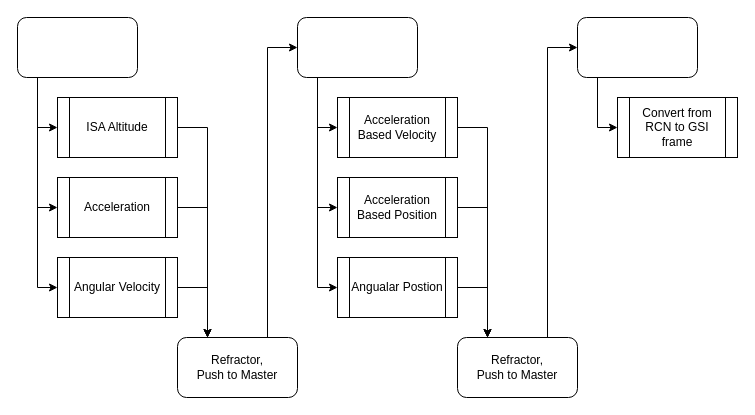
Some shapes in this 755 by 415 pixel diagram are drawn without their labels. Each missing label, with the centre of its shape:
"Phase 1: Basic Flight Analysis" goes at point 77,47.
"Phase 2: Processed Flight Data" goes at point 357,47.
"Phase 3: Rocket Data Readability" goes at point 637,47.
